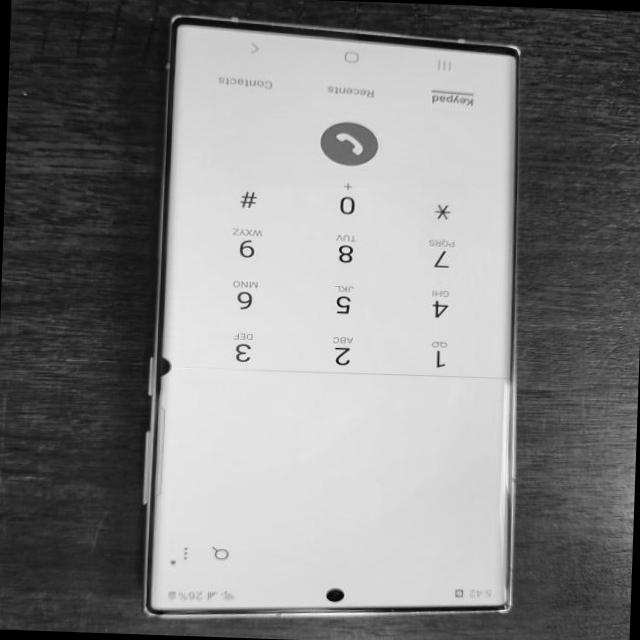dead pixel: (142, 352, 182, 383)
